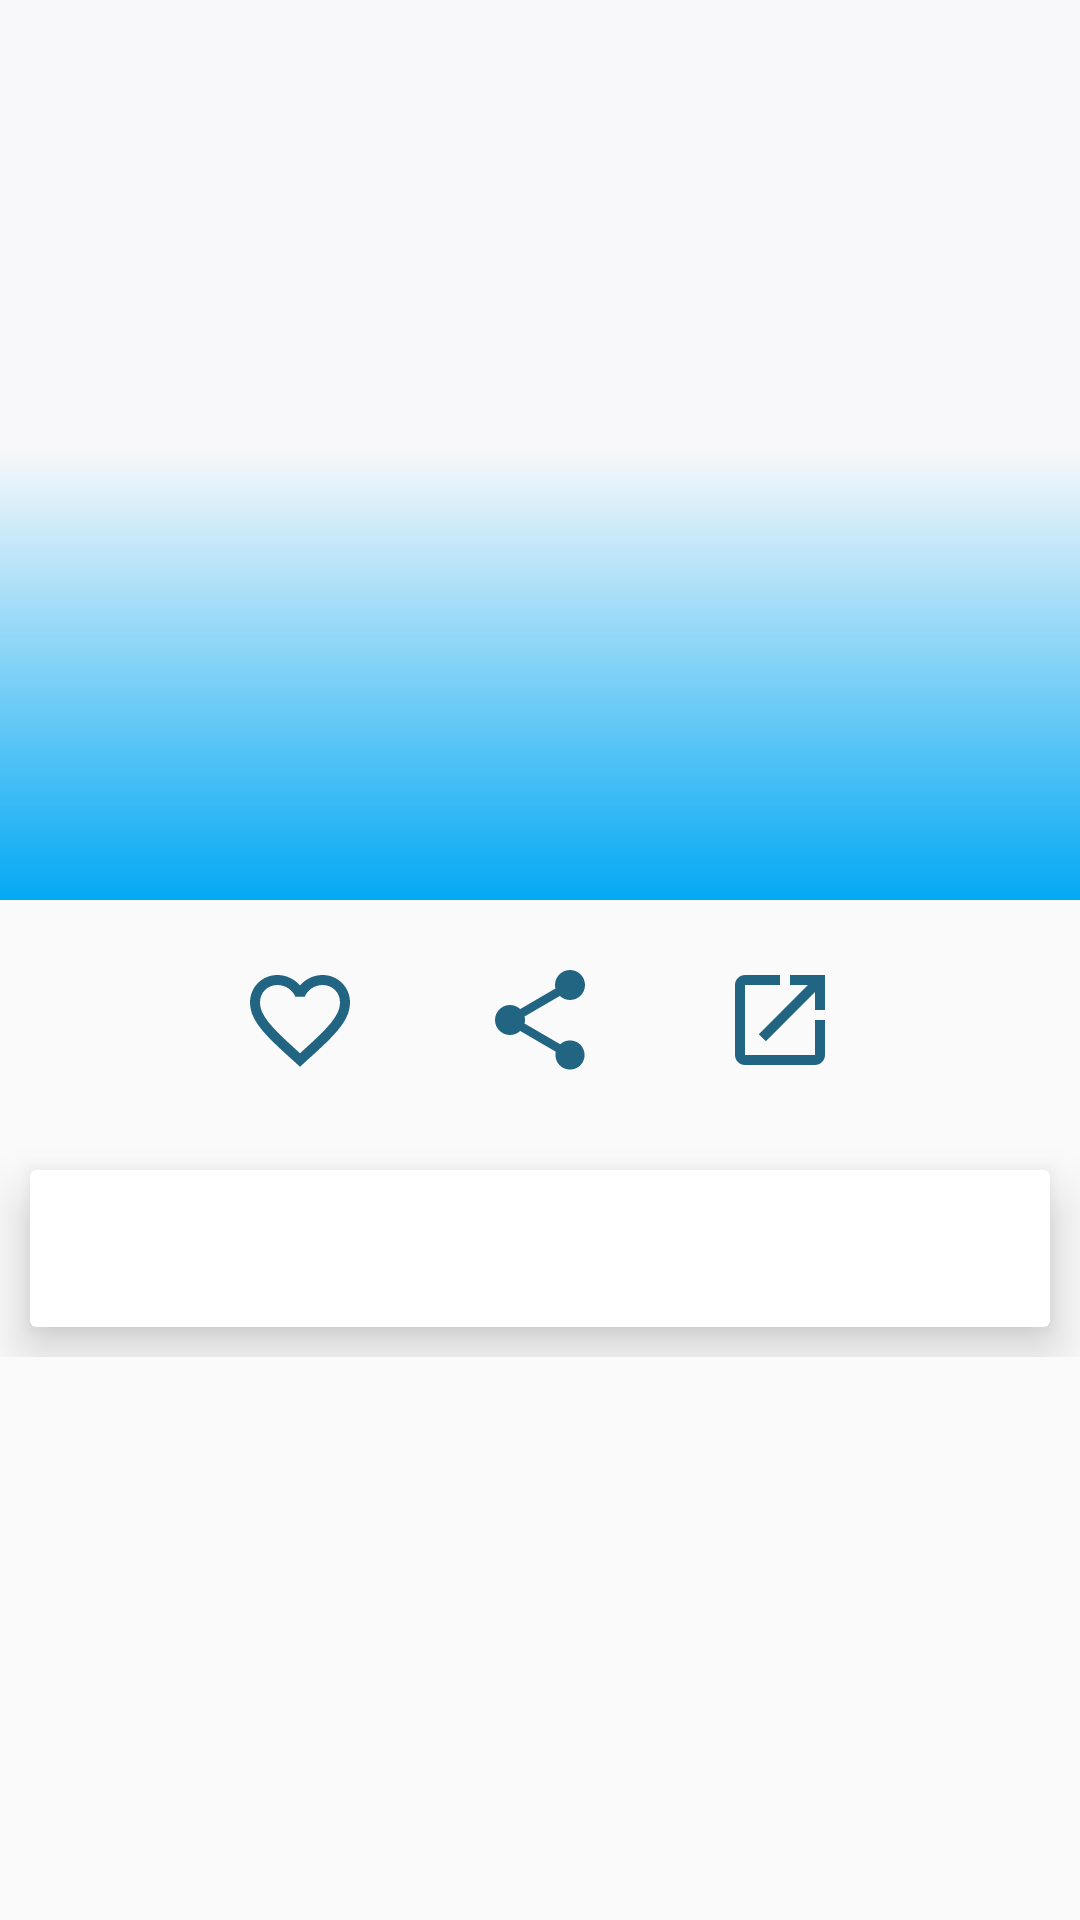

Screen size 1080 x 1920. Icon name, then its center in pixels as (x,y):
favorite border: (300,1021)
launch: (780,1020)
share: (540,1020)
